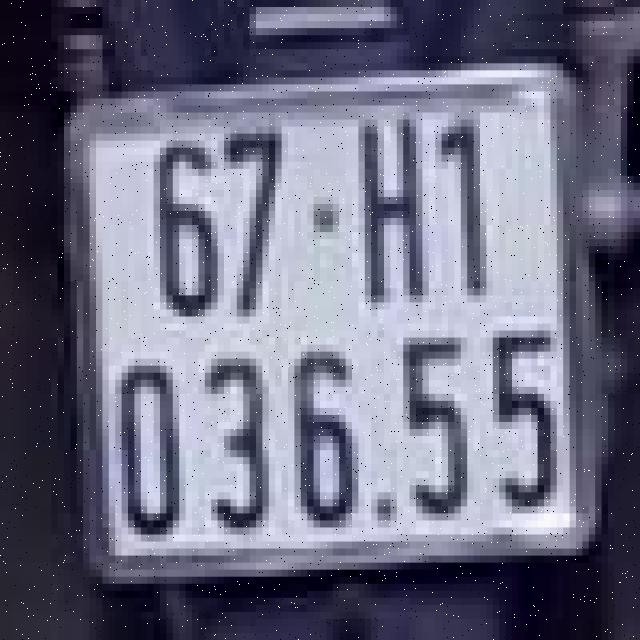0: (109, 355, 192, 545)
1: (435, 102, 493, 313)
3: (202, 352, 272, 534)
5: (387, 334, 483, 524), (486, 313, 557, 510)
6: (141, 134, 224, 324), (288, 341, 365, 538)
7: (220, 116, 298, 320)
H: (355, 106, 432, 316)
